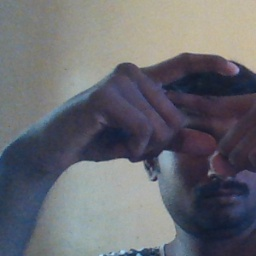E: (139, 50, 244, 165)
